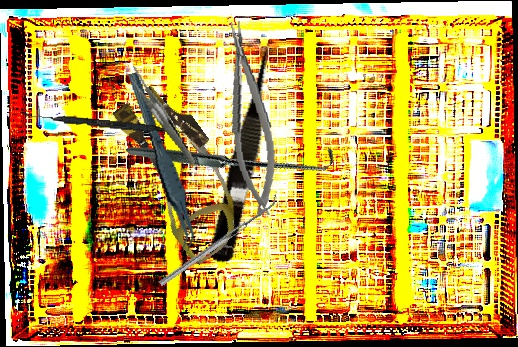Cannula: (94, 76, 266, 267)
Dressing Forceps: (124, 57, 196, 175)
Hook Surgical: (125, 47, 339, 260)
Micro Scissor: (207, 37, 288, 267)
Needle Holder: (220, 18, 282, 218)
Spatula Surgical: (155, 193, 282, 287), (18, 111, 191, 136)
Tissue Forceps: (127, 67, 198, 256)
